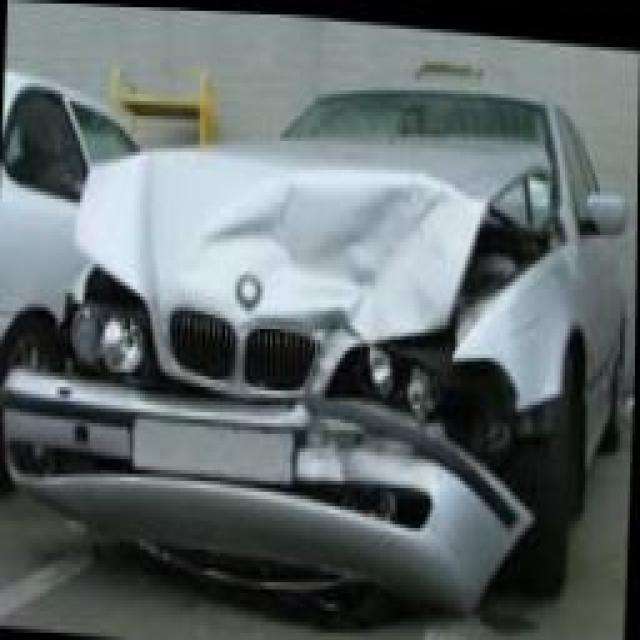Bonnet: (74, 140, 551, 404)
Bumper: (6, 371, 534, 606)
Light: (331, 340, 518, 440)
